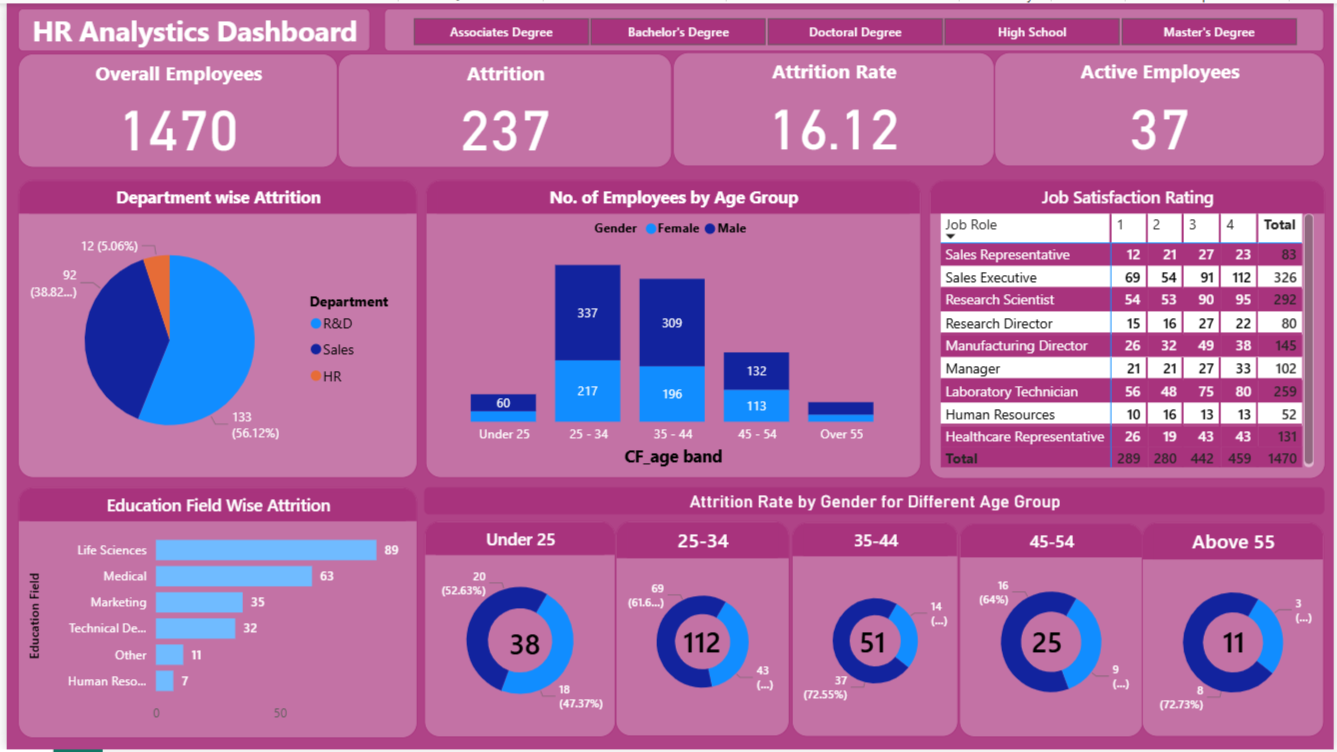

What the dashboard file says about the page in this screenshot:
{"tool":"powerbi","page":{"name":"Page 1","canvas":[1280,720],"ordinal":0},"visuals":[{"type":"card","title":"Overall Employees","fields":{"Values":["Sum(HR data.Employee Count)"]},"box":[10.9,48.2,309.1,110],"z":0},{"type":"card","title":"Attrition","fields":{"Values":["Sum(HR data.Attrition Count)"]},"box":[320,48.2,322.7,110],"z":1000},{"type":"card","title":"Attrition Rate","fields":{"Values":["HR data.Measure"]},"box":[642.7,47.3,310,110],"z":2000},{"type":"card","title":"Active Employees","fields":{"Values":["Avg(HR data.Age)"]},"box":[953,47,319,110],"z":3000},{"type":"pieChart","title":"Department wise Attrition","fields":{"Category":["HR data.Department"],"Y":["Sum(HR data.Attrition Count)"]},"box":[11.1,170,385.6,287.8],"z":4000},{"type":"columnChart","title":"No. of Employees by Age Group","fields":{"Y":["Sum(HR data.Employee Count)"],"Category":["HR data.CF_age band"],"Series":["HR data.Gender"]},"box":[404,170,478,288],"z":5000},{"type":"pivotTable","title":"Job Satisfaction Rating","fields":{"Rows":["HR data.Job Role"],"Columns":["HR data.Job Satisfaction"],"Values":["Sum(HR data.Employee Count)"]},"box":[890,170,382,289],"z":6000},{"type":"barChart","title":"Education Field Wise Attrition","fields":{"Category":["HR data.Education Field"],"Y":["Sum(HR data.Attrition Count)"]},"box":[11.1,466.7,385.6,242.2],"z":7000},{"type":"donutChart","title":"Under 25","fields":{"Category":["HR data.Gender"],"Y":["Sum(HR data.Attrition Count)"],"Series":["HR data.CF_age band"]},"box":[403.3,500,184.7,208.7],"z":8000},{"type":"textbox","title":"Attrition Rate by Gender for Different Age Group","box":[403,467,869,26],"z":9000},{"type":"donutChart","title":"25-34","fields":{"Category":["HR data.Gender"],"Y":["Sum(HR data.Attrition Count)"],"Series":["HR data.CF_age band"]},"box":[587.9,500,167.9,207.9],"z":10000},{"type":"donutChart","title":"35-44","fields":{"Category":["HR data.Gender"],"Y":["Sum(HR data.Attrition Count)"],"Series":["HR data.CF_age band"]},"box":[758,501,161,207],"z":11000},{"type":"donutChart","title":"45-54","fields":{"Category":["HR data.Gender"],"Y":["Sum(HR data.Attrition Count)"],"Series":["HR data.CF_age band"]},"box":[918.9,502.2,177.2,206.7],"z":12000},{"type":"donutChart","title":"Above 55","fields":{"Category":["HR data.Gender"],"Y":["Sum(HR data.Attrition Count)"],"Series":["HR data.CF_age band"]},"box":[1096,501,176,207],"z":13000},{"type":"card","fields":{"Values":["Sum(HR data.Attrition Count)"]},"box":[446.7,574,107.3,90],"z":14000},{"type":"card","fields":{"Values":["Sum(HR data.Attrition Count)"]},"box":[618,572,107.3,90],"z":15000},{"type":"card","fields":{"Values":["Sum(HR data.Attrition Count)"]},"box":[782.1,571.6,107.9,90],"z":16000},{"type":"card","fields":{"Values":["Sum(HR data.Attrition Count)"]},"box":[951,572,107,90],"z":17000},{"type":"card","fields":{"Values":["Sum(HR data.Attrition Count)"]},"box":[1130,572,108,90],"z":18000},{"type":"textbox","title":"HR Analystics Dashboard","box":[10.6,5,340,41.9],"z":19000},{"type":"slicer","title":"Education","fields":{"Values":["HR data.Education"]},"box":[363.8,5,907.5,41.2],"z":20000}]}

Visuals, with their boxes in screenshot pixels (x1, y1, x2, y2), scaled from the page's 1280x720 canvas onto the 1337x752 screenshot:
"Overall Employees" card: [x1=11, y1=50, x2=334, y2=165]
"Attrition" card: [x1=334, y1=50, x2=671, y2=165]
"Attrition Rate" card: [x1=671, y1=49, x2=995, y2=164]
"Active Employees" card: [x1=995, y1=49, x2=1329, y2=164]
"Department wise Attrition" pieChart: [x1=12, y1=178, x2=414, y2=478]
"No. of Employees by Age Group" columnChart: [x1=422, y1=178, x2=921, y2=478]
"Job Satisfaction Rating" pivotTable: [x1=930, y1=178, x2=1329, y2=479]
"Education Field Wise Attrition" barChart: [x1=12, y1=487, x2=414, y2=740]
"Under 25" donutChart: [x1=421, y1=522, x2=614, y2=740]
"Attrition Rate by Gender for Different Age Group" textbox: [x1=421, y1=488, x2=1329, y2=515]
"25-34" donutChart: [x1=614, y1=522, x2=789, y2=739]
"35-44" donutChart: [x1=792, y1=523, x2=960, y2=739]
"45-54" donutChart: [x1=960, y1=525, x2=1145, y2=740]
"Above 55" donutChart: [x1=1145, y1=523, x2=1329, y2=739]
card - Sum(HR data.Attrition Count): [x1=467, y1=600, x2=579, y2=694]
card - Sum(HR data.Attrition Count): [x1=646, y1=597, x2=758, y2=691]
card - Sum(HR data.Attrition Count): [x1=817, y1=597, x2=930, y2=691]
card - Sum(HR data.Attrition Count): [x1=993, y1=597, x2=1105, y2=691]
card - Sum(HR data.Attrition Count): [x1=1180, y1=597, x2=1293, y2=691]
"HR Analystics Dashboard" textbox: [x1=11, y1=5, x2=366, y2=49]
"Education" slicer: [x1=380, y1=5, x2=1328, y2=48]
